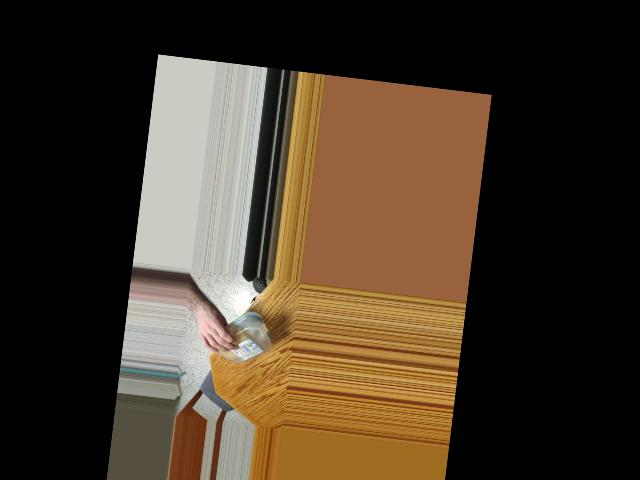cheese: (203, 309, 276, 368)
